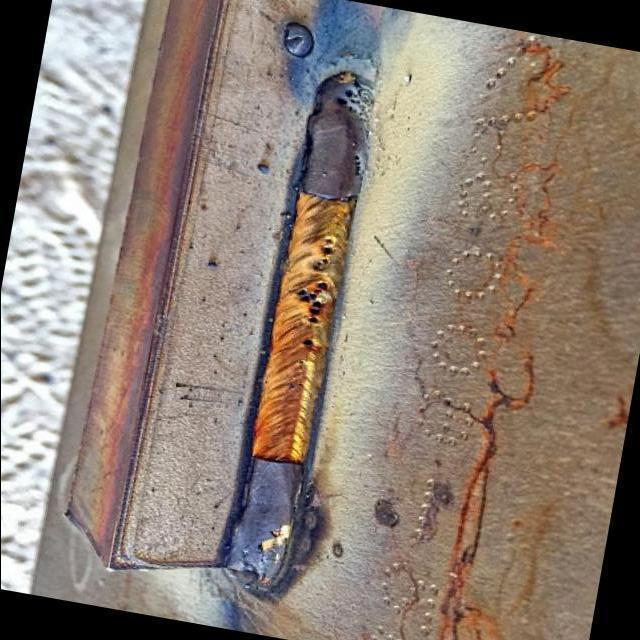defect: (286, 279, 329, 330), (334, 87, 368, 119), (311, 235, 337, 273), (346, 146, 368, 178), (299, 334, 317, 350)
